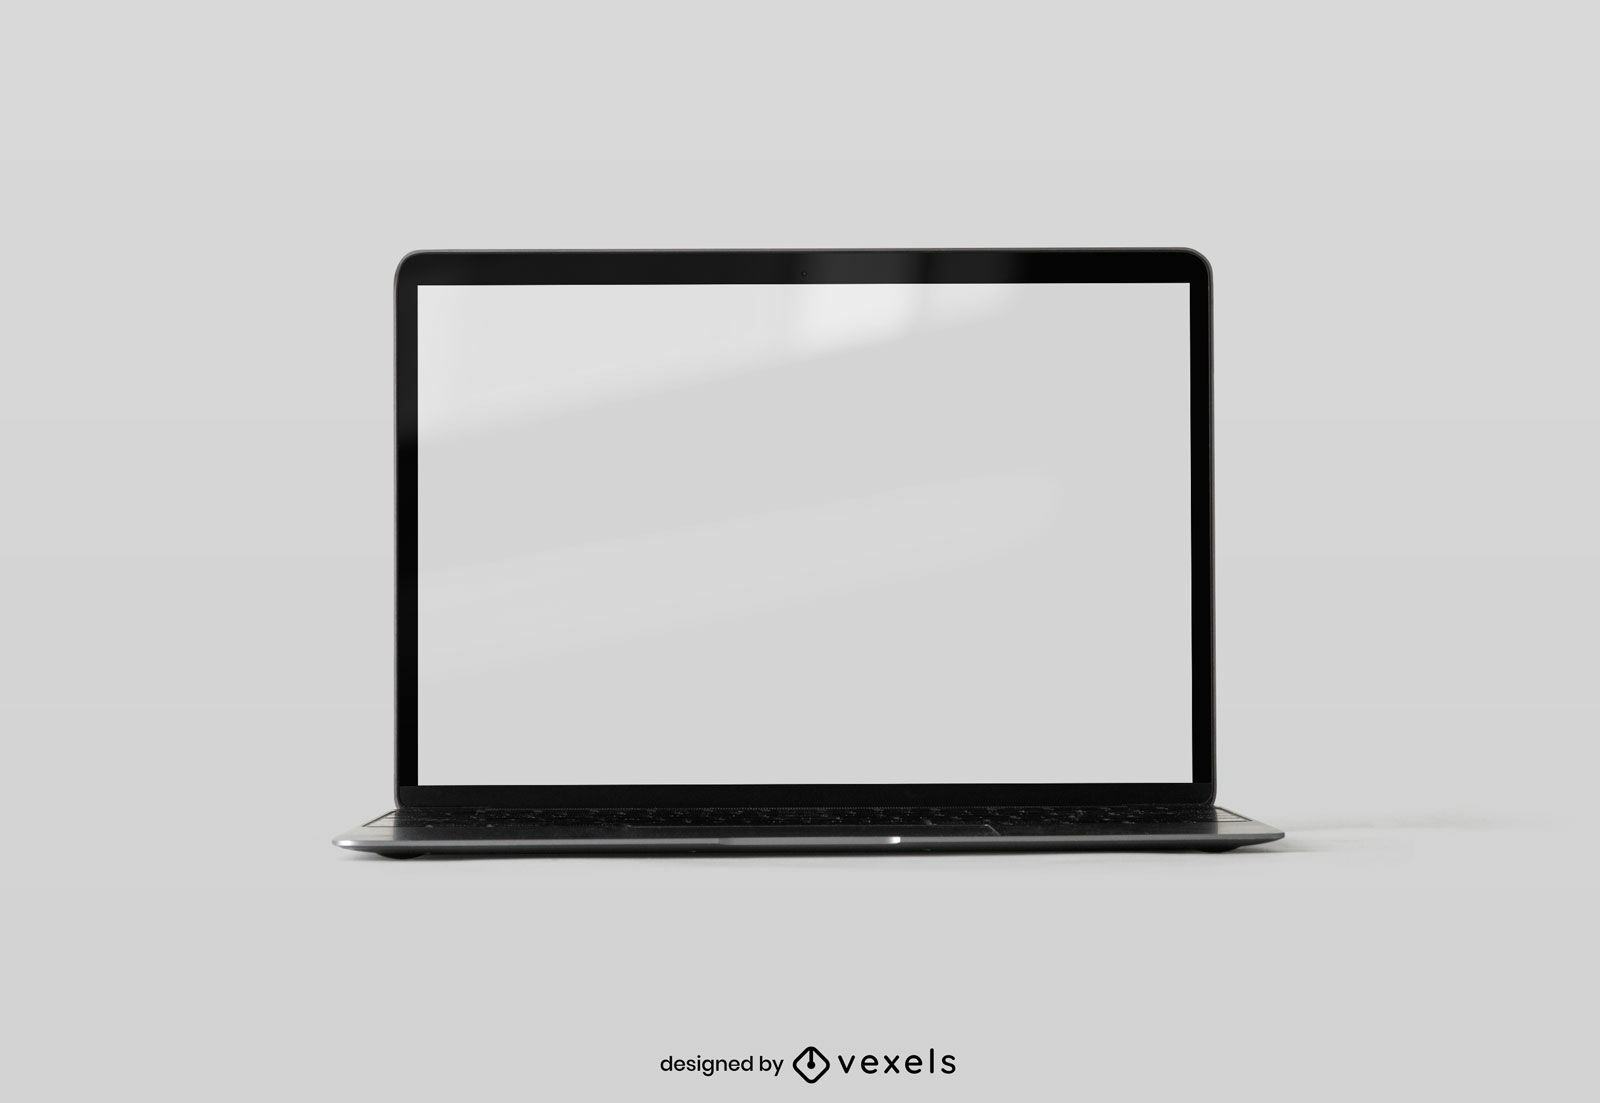laptop: (303, 206, 1331, 906)
